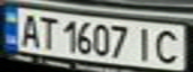0: (90, 20, 112, 57)
1: (57, 17, 78, 53)
6: (75, 19, 93, 55)
7: (109, 21, 133, 60)
A: (15, 11, 42, 48)
C: (151, 27, 187, 65)
I: (130, 25, 160, 62)
T: (36, 13, 60, 51)
